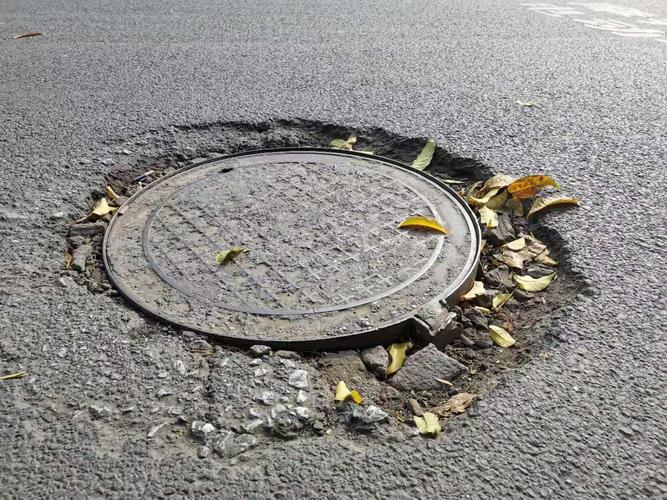circle: (15, 117, 577, 445)
